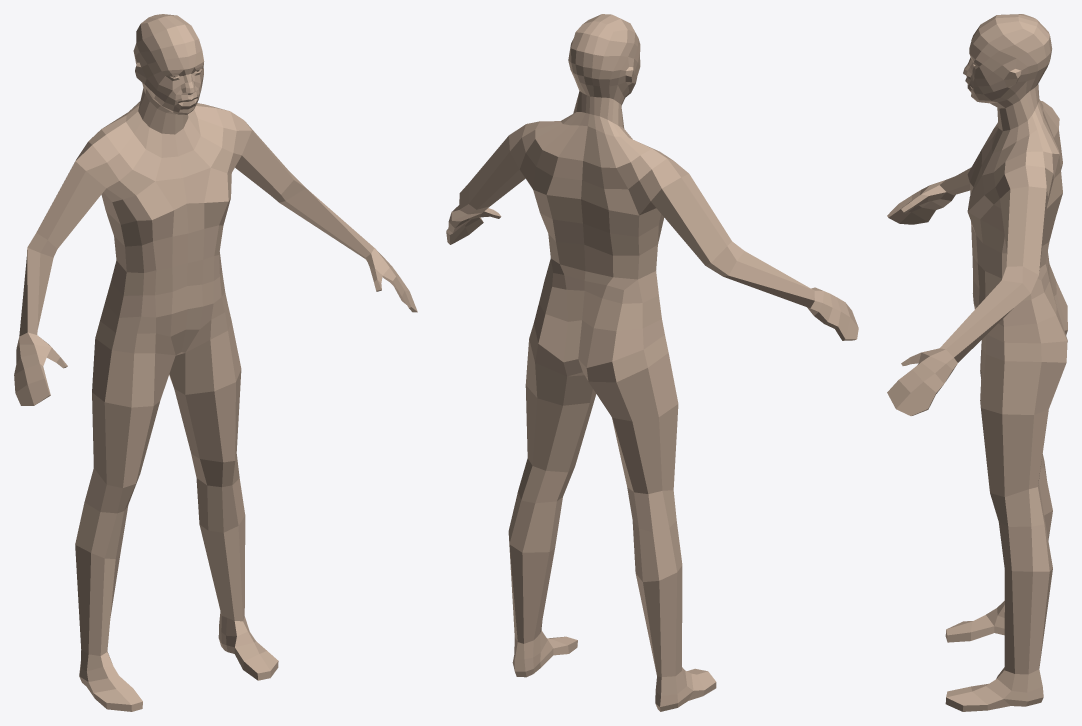
The model's file is female_bkp.glb.
3 views of the same model, side by side, from view 1: azimuth 30°, elevation 25°; view 2: azimuth 150°, elevation 25°; view 3: azimuth 270°, elevation 25° (orthographic). The views are drawn at different scales.
Visible parts, largest first — view 1: base_avatar; view 2: base_avatar; view 3: base_avatar.
Part boxes in pixels (x1=…): base_avatar: x1=14, y1=14, x2=417, y2=711; base_avatar: x1=446, y1=14, x2=858, y2=711; base_avatar: x1=887, y1=14, x2=1067, y2=711.
Size of the model in its own units: 10.51 by 16.58 by 4.16.
